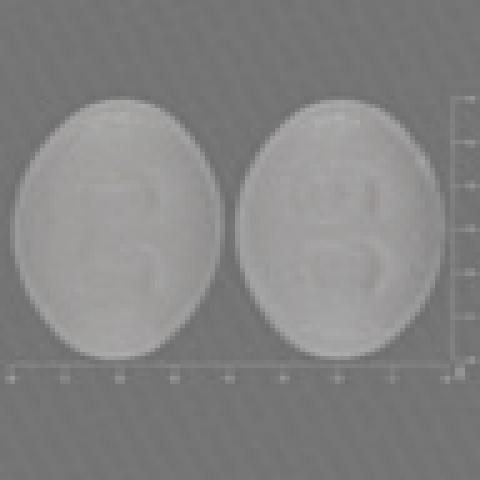Pill: (10, 82, 231, 370), (231, 83, 451, 368)
